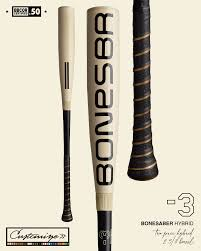baseball bat: (86, 6, 120, 251), (123, 1, 159, 180), (58, 5, 76, 222)
